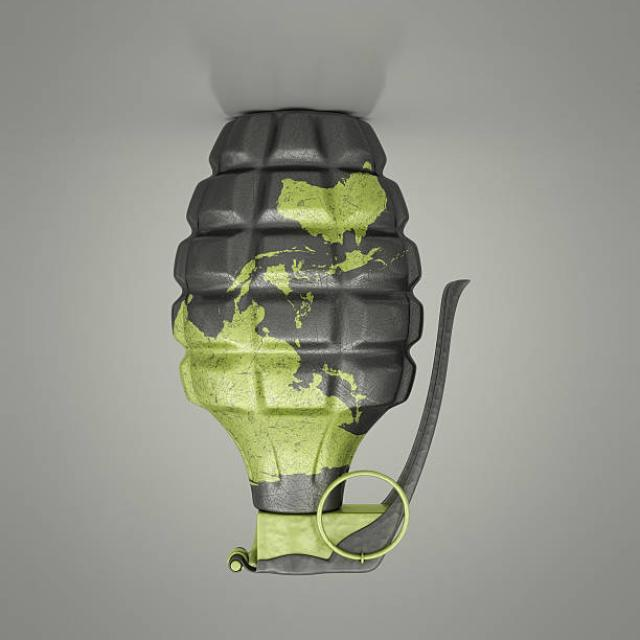grenade: (164, 95, 479, 596)
